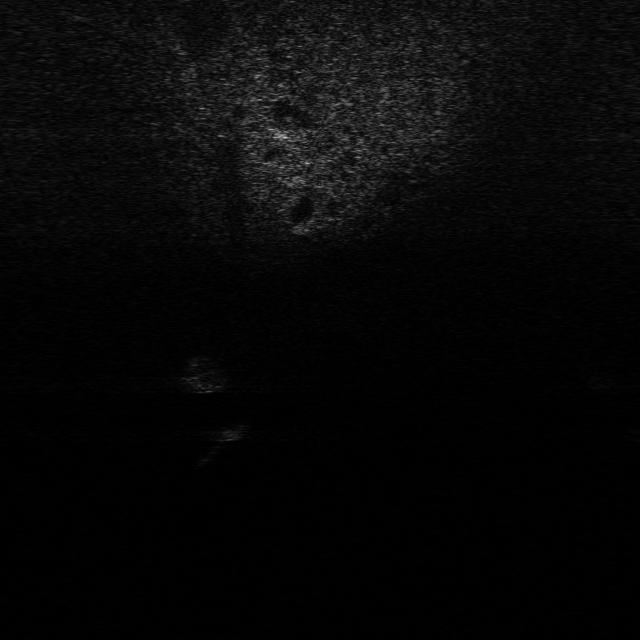circle cage: (177, 352, 232, 396)
cylinder: (198, 419, 250, 467)
